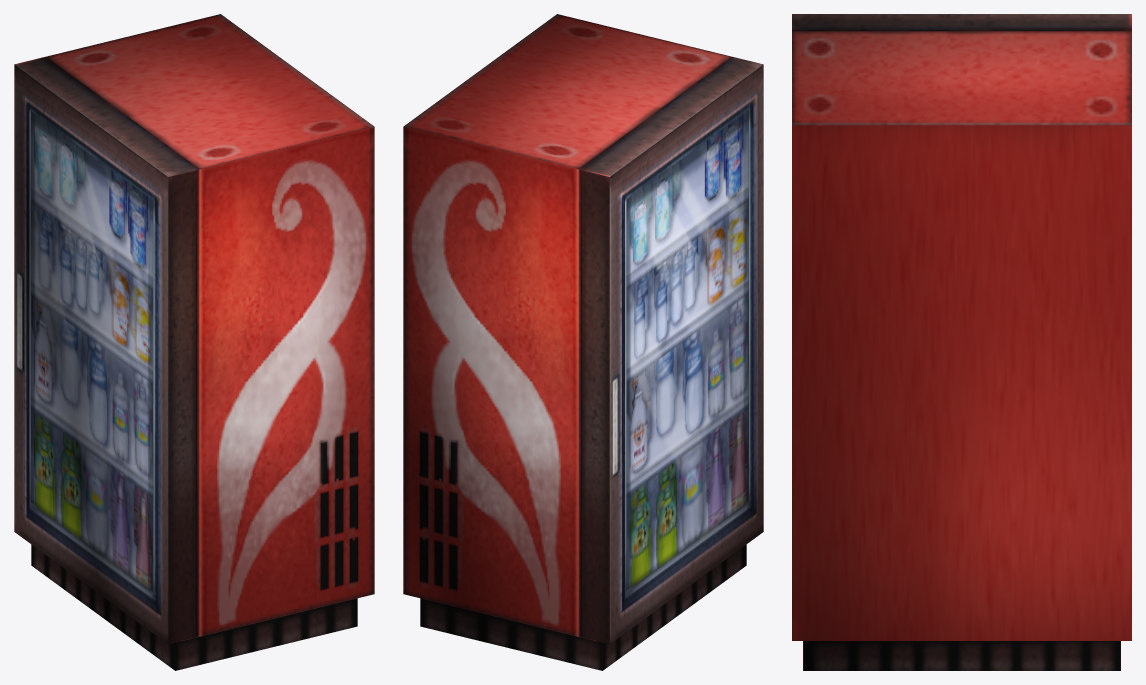
Rendered from a_SWIbooth01_a.glb.
3 renders of one model, left to right at view 1: azimuth 30°, elevation 25°; view 2: azimuth 150°, elevation 25°; view 3: azimuth 270°, elevation 25°, orthographic. The views are drawn at different scales.
Parts seen in each view (by area): view 1: a_SWIbooth01_a; view 2: a_SWIbooth01_a; view 3: a_SWIbooth01_a.
Part boxes in pixels (x1,y1,x2,y2): a_SWIbooth01_a: (14,14,374,670); a_SWIbooth01_a: (403,14,763,670); a_SWIbooth01_a: (792,14,1131,670).
Size of the model in its own units: 0.7212 by 1.67 by 0.9314.
1 material, 1 textured.
